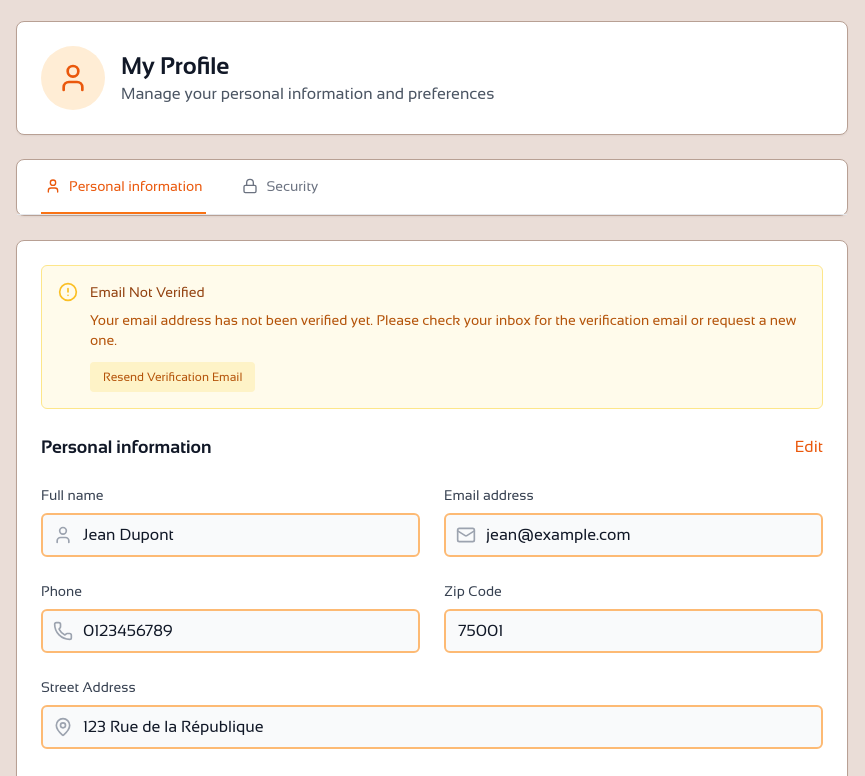
Test: Profile Component › Personal Information Tab - Edit Mode › should enable editing when Edit button is clicked
The width and height of the screenshot is (865, 776).
Click the button "Edit" at (809, 447), box [795,435,823,459]
(page scrolled)
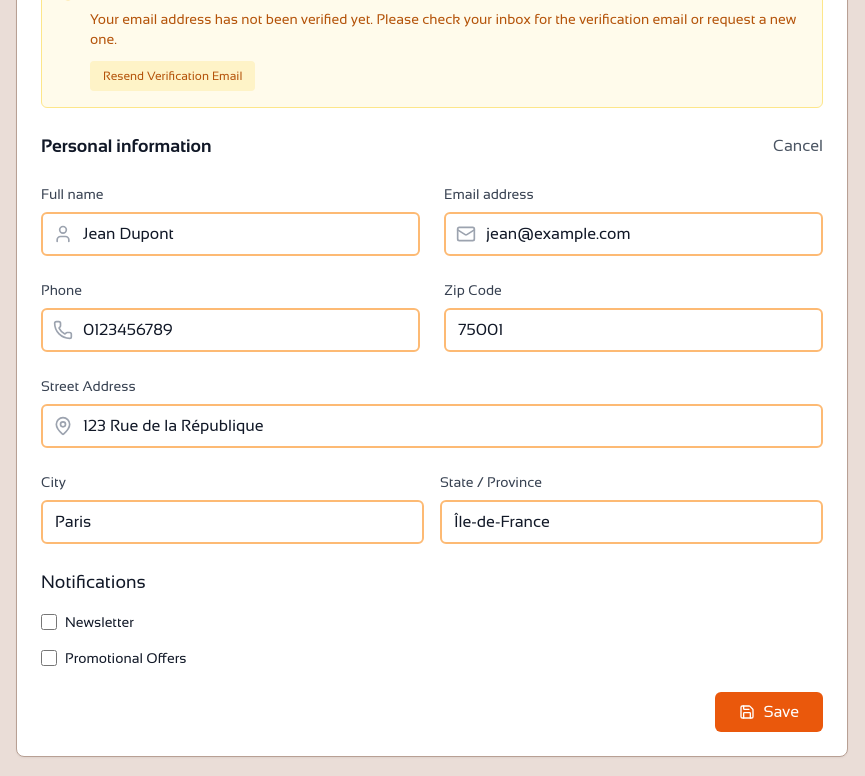
Expected: the field showing "Jean Dupont" is enabled, [41,212,420,256]
Expected: the field showing "jean@example.com" is enabled, [444,212,823,256]
Expected: the field showing "0123456789" is enabled, [41,308,420,352]
